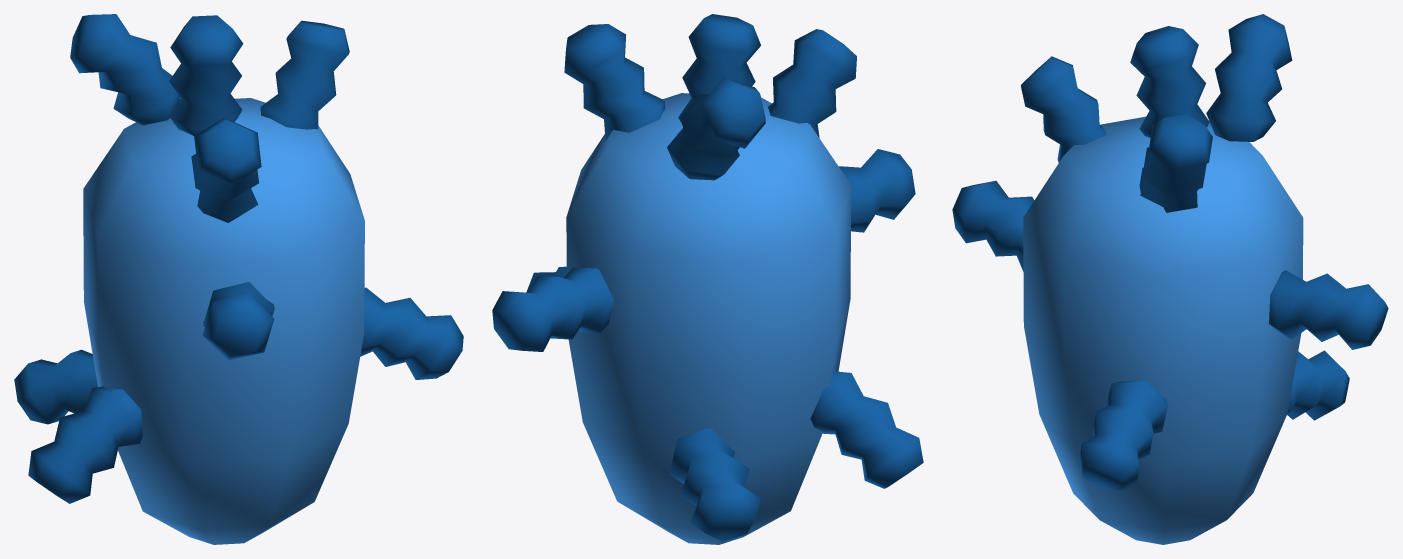
File: Coral_29.fbx
3 views of the same model, side by side, from view 1: azimuth 30°, elevation 25°; view 2: azimuth 150°, elevation 25°; view 3: azimuth 270°, elevation 25° (orthographic). The views are drawn at different scales.
Parts seen in each view (by area): view 1: Coral_29; view 2: Coral_29; view 3: Coral_29.
Boxes of the visible parts, x1=… form: Coral_29: x1=14, y1=14, x2=463, y2=544; Coral_29: x1=492, y1=14, x2=923, y2=544; Coral_29: x1=952, y1=14, x2=1388, y2=544.
Bounding box in the file's own units: 51.84 × 61.83 × 49.91.
